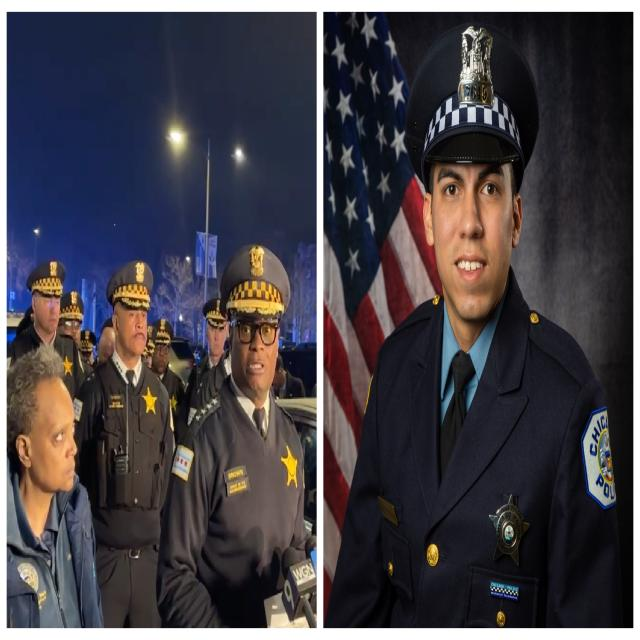police: (336, 30, 632, 640), (164, 231, 316, 640), (75, 252, 176, 637), (0, 246, 79, 386)
